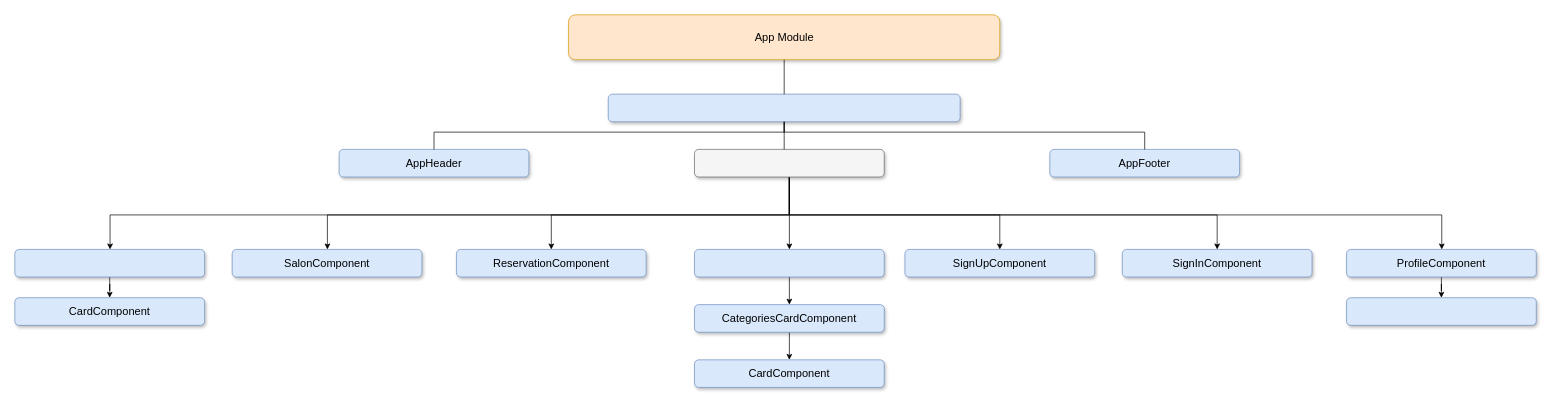
Some shapes in this 1553 by 404 pixel diagram are drawn without their labels. Here are the shapes that lost their labels. From the top down, the centre of each, then its label:
At pixel 784 109: "AppComponent".
At pixel 789 164: "<router-outlet>".
At pixel 110 264: "ServicesComponent".
At pixel 789 264: "HomeComponent".
At pixel 1441 312: "ReserveDataComponent".
